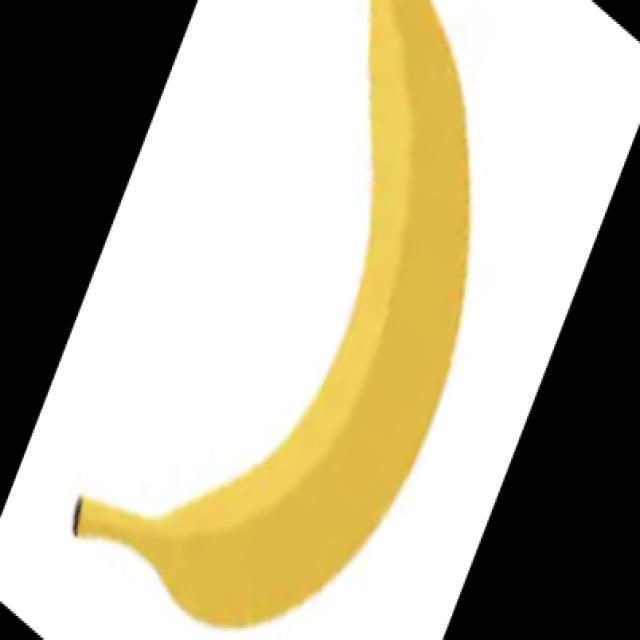Banana: (71, 0, 471, 629)
